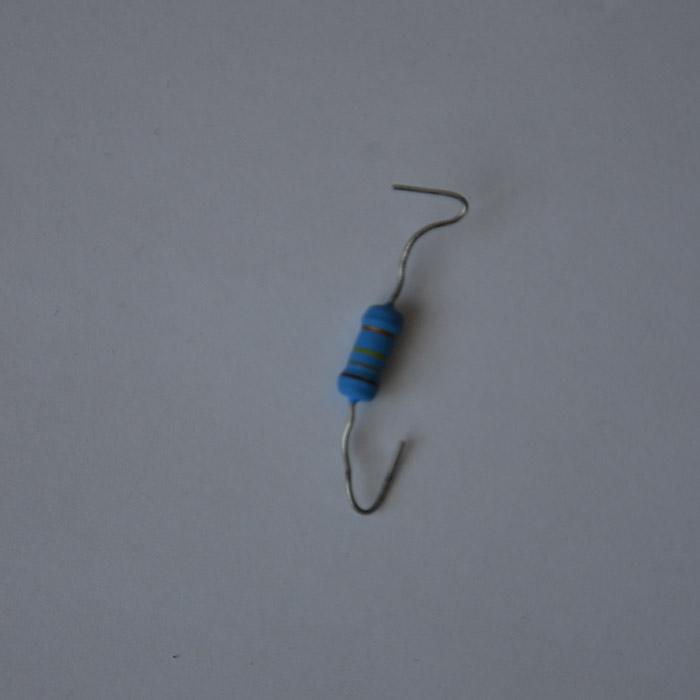resistor: (336, 301, 405, 404)
